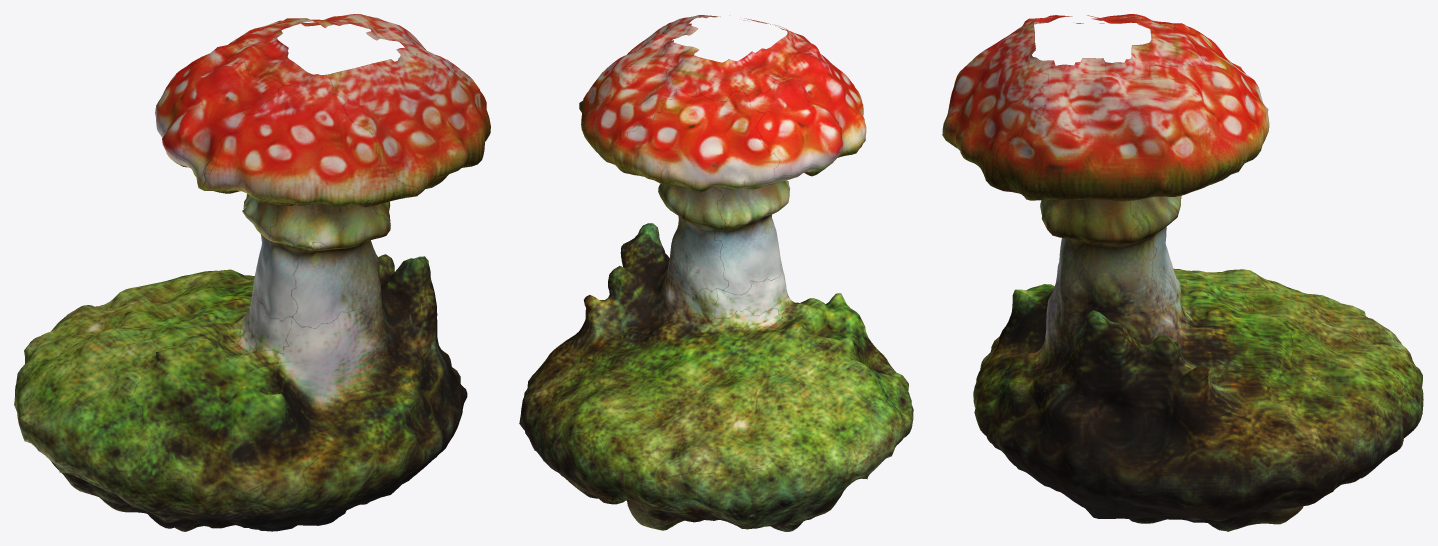
The model's file is mushroom_cluster.glb.
3 views of the same model, side by side, from view 1: azimuth 30°, elevation 25°; view 2: azimuth 150°, elevation 25°; view 3: azimuth 270°, elevation 25° (orthographic). The views are drawn at different scales.
Visible parts, largest first — view 1: Mesh1; view 2: Mesh1; view 3: Mesh1.
Boxes of the visible parts, x1=… form: Mesh1: x1=14, y1=14, x2=490, y2=531; Mesh1: x1=519, y1=15, x2=913, y2=531; Mesh1: x1=942, y1=14, x2=1423, y2=531.
Size of the model in its own units: 0.9769 by 1.2 by 1.06.
1 material, 1 textured.
